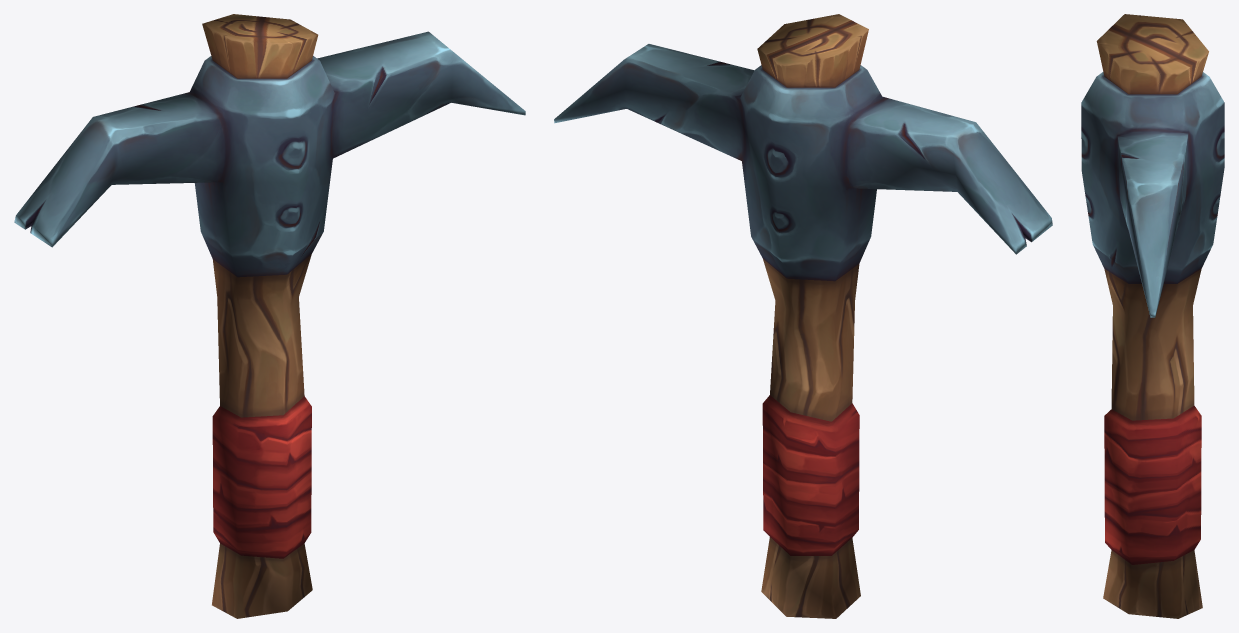
The model's file is Pickaxe.fbx.
3 views of the same model, side by side, from view 1: azimuth 30°, elevation 25°; view 2: azimuth 150°, elevation 25°; view 3: azimuth 270°, elevation 25° (orthographic). The views are drawn at different scales.
Parts seen in each view (by area): view 1: Pickaxe; view 2: Pickaxe; view 3: Pickaxe.
Boxes of the visible parts, x1,y1,x2,y2 form: Pickaxe: [14, 14, 525, 618]; Pickaxe: [554, 14, 1052, 618]; Pickaxe: [1081, 14, 1224, 618].
Size of what is drawn, in the model's own units: 0.5199 by 0.593 by 0.1339.
